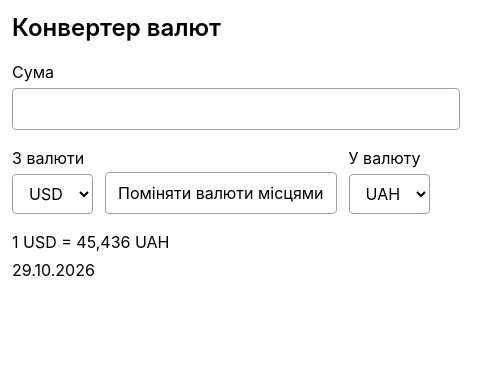
Test case: Converter form › reverses the pair with the swap control and keeps the amount
The width and height of the screenshot is (481, 381).
In the field labelled "Сума": x=236, y=109 [12,88,460,130], type "100"
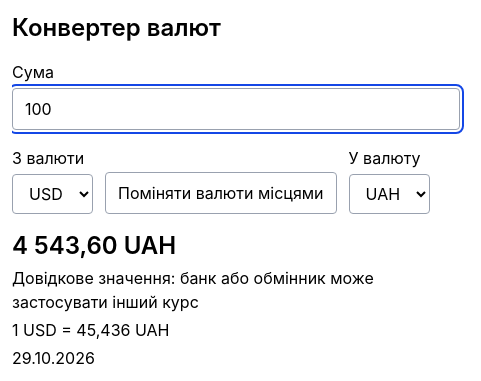
Click the button "Поміняти валюти місцями": x=221, y=193 [105,172,336,214]
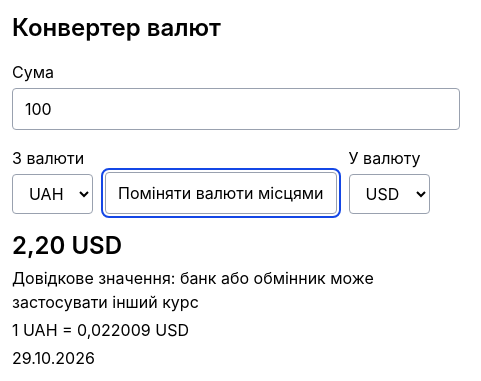
Check: the dropdown labelled "З валюти" shows "UAH", box [12,174,93,214]
Check: the dropdown labelled "У валюту" shows "USD", box [348,174,430,214]
